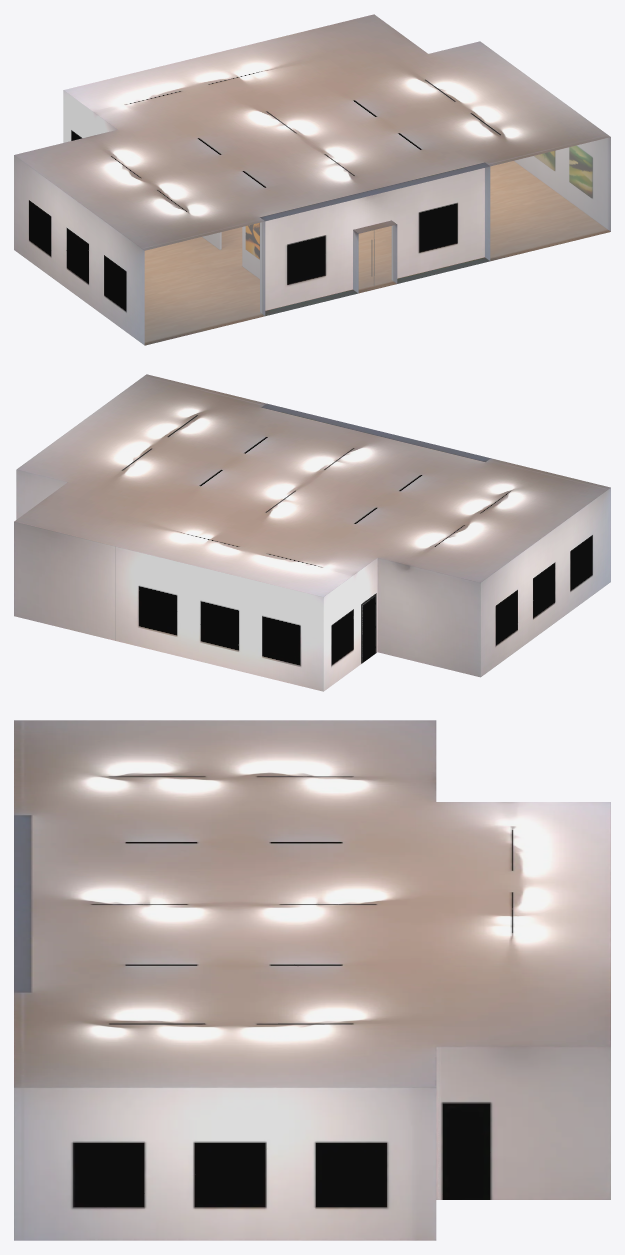
3 views of the same model, one above another, from view 1: azimuth 30°, elevation 25°; view 2: azimuth 150°, elevation 25°; view 3: azimuth 270°, elevation 25° (orthographic). The views are drawn at different scales.
Parts seen in each view (by area): view 1: Floor, Glass, Paintings; view 2: Floor; view 3: Floor.
Part boxes in pixels (<box>): Floor: <box>14,14,610,345</box>; Glass: <box>145,138,608,342</box>; Paintings: <box>245,145,592,259</box>; Floor: <box>14,374,610,691</box>; Floor: <box>14,720,610,1240</box>.
Size of the model in its own units: 18 by 3.5 by 12.37.
6 materials, 4 textured.
